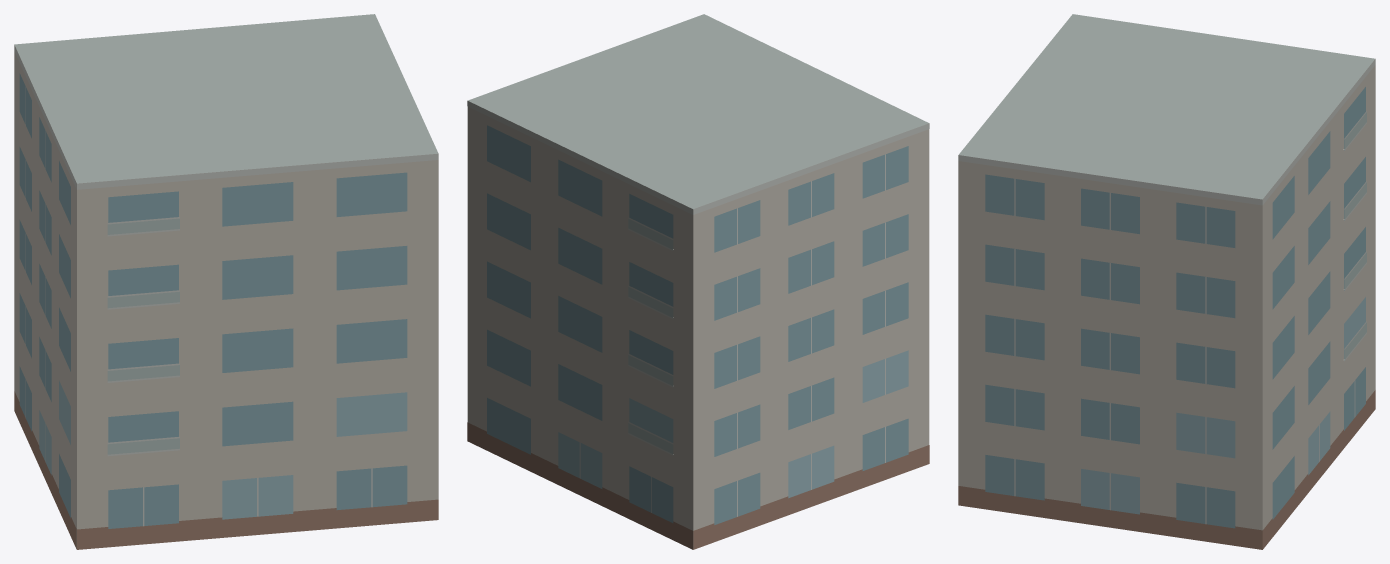
The model's file is survey-upis-32869776.glb.
3 renders of one model, left to right at view 1: azimuth 30°, elevation 25°; view 2: azimuth 150°, elevation 25°; view 3: azimuth 270°, elevation 25°, orthographic. The views are drawn at different scales.
Parts seen in each view (by area): view 1: survey-upis-32869776.tmp; view 2: survey-upis-32869776.tmp; view 3: survey-upis-32869776.tmp.
Part boxes in pixels (x1,y1,x2,y2): survey-upis-32869776.tmp: (14,14,438,549); survey-upis-32869776.tmp: (467,14,929,549); survey-upis-32869776.tmp: (958,14,1375,549).
Bounding box in the file's own units: 16.25 × 14.3 × 15.44.
